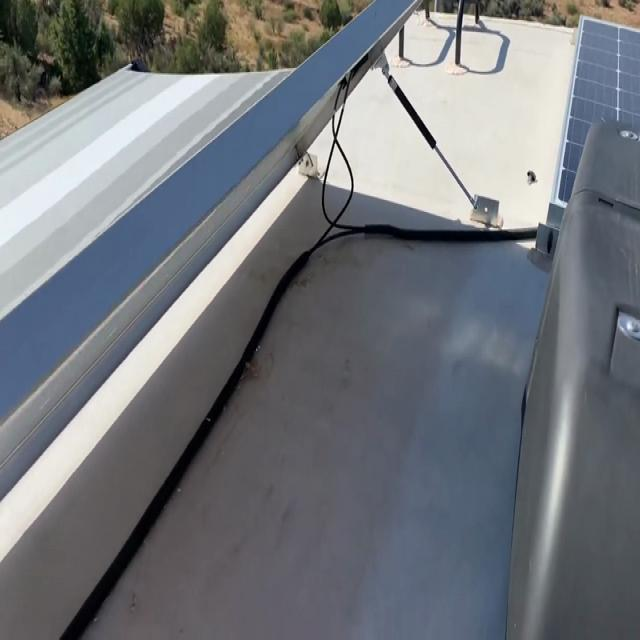Normal Solar Panel: (555, 15, 640, 203)
